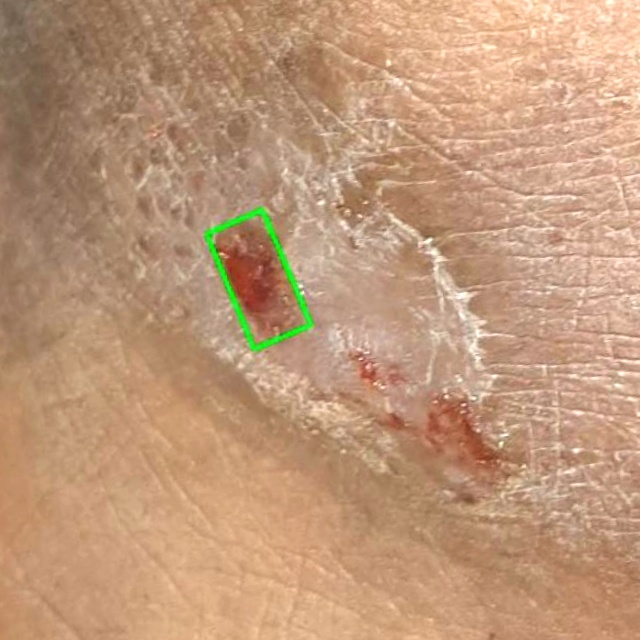Contact Dermatitis: (206, 210, 311, 349)
